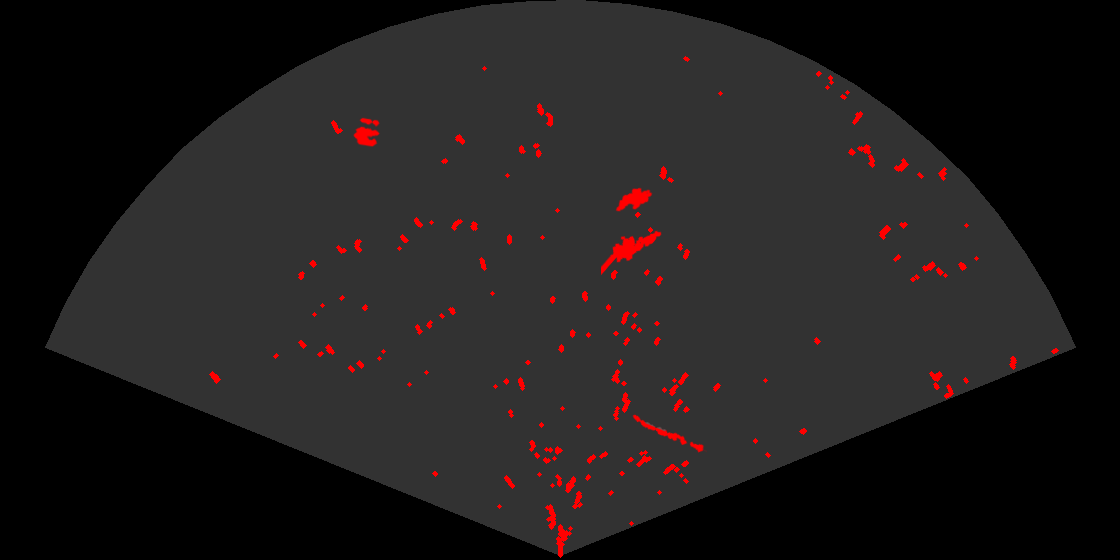AUV: (614, 186, 654, 213)
ball: (352, 116, 381, 148)
chain: (631, 413, 707, 454)
frogman: (601, 229, 663, 275)
